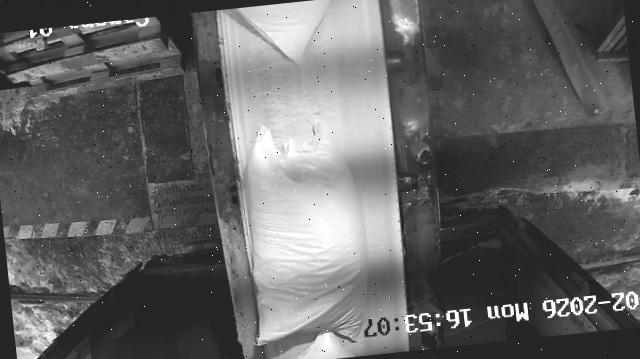bag: (234, 117, 373, 352), (212, 0, 358, 70), (255, 323, 370, 359)
